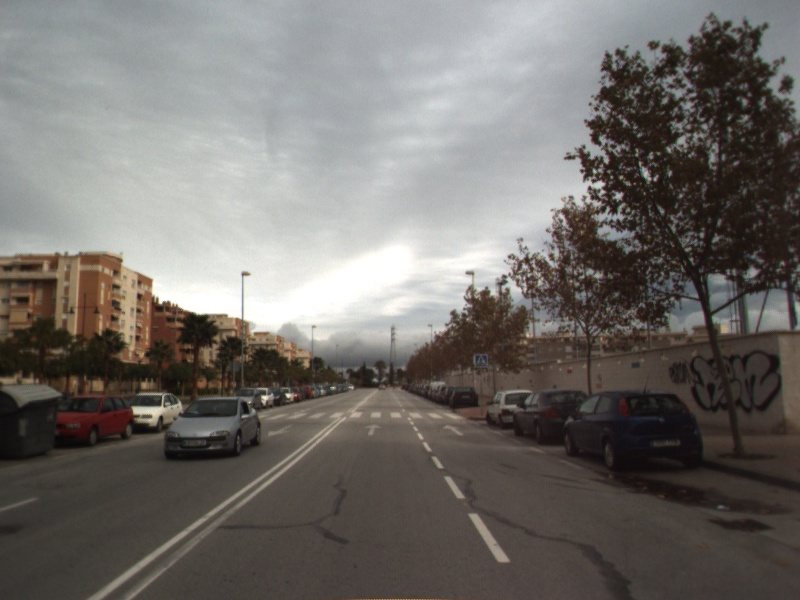STRAIGHT: (441, 422, 466, 438), (363, 422, 384, 437)
